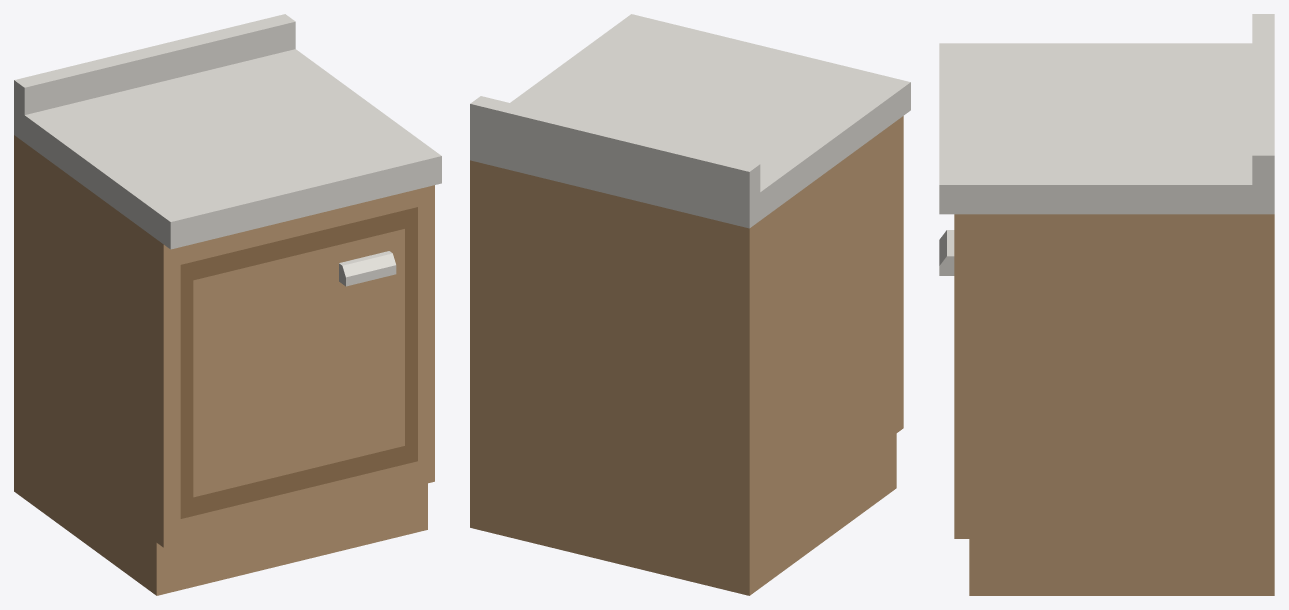
Rendered from kitchen-base.glb.
3 views of the same model, side by side, from view 1: azimuth 30°, elevation 25°; view 2: azimuth 150°, elevation 25°; view 3: azimuth 270°, elevation 25° (orthographic). The views are drawn at different scales.
Visible parts, largest first — view 1: kitchen-base; view 2: kitchen-base; view 3: kitchen-base.
Boxes of the visible parts, x1,y1,x2,y2 form: kitchen-base: (14, 14, 441, 595); kitchen-base: (470, 14, 910, 595); kitchen-base: (939, 14, 1274, 595).
Size of the model in its own units: 0.6 by 0.87 by 0.6.
